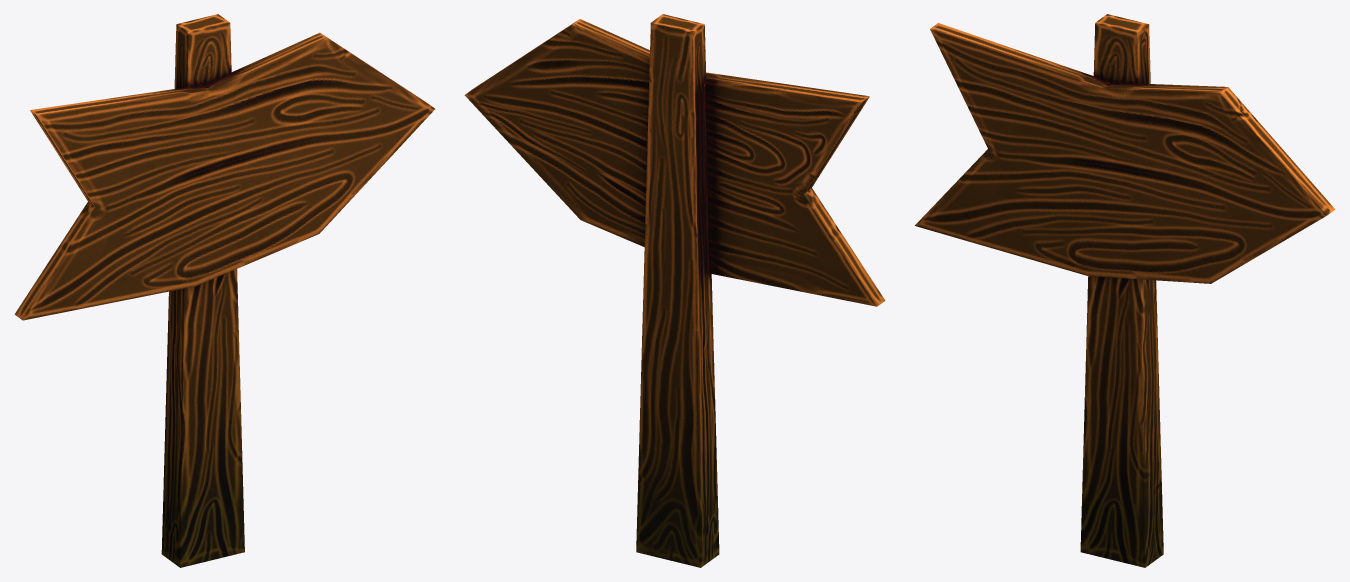
The model's file is sign.fbx.
3 views of the same model, side by side, from view 1: azimuth 30°, elevation 25°; view 2: azimuth 150°, elevation 25°; view 3: azimuth 330°, elevation 25° (orthographic).
Visible parts, largest first — view 1: sign3; view 2: sign3; view 3: sign3.
Boxes of the visible parts, x1,y1,x2,y2 form: sign3: (14,14,434,567); sign3: (464,14,885,567); sign3: (915,14,1335,567).
Size of the model in its own units: 140 by 172 by 13.44.
